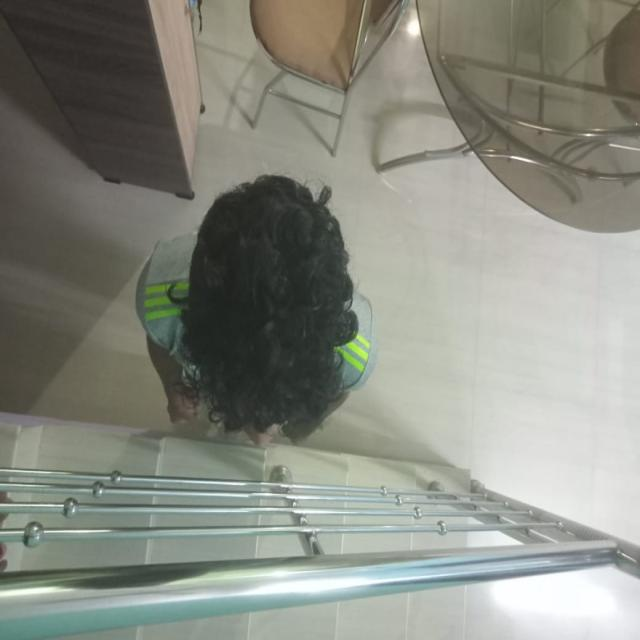humans: (124, 159, 384, 452)
